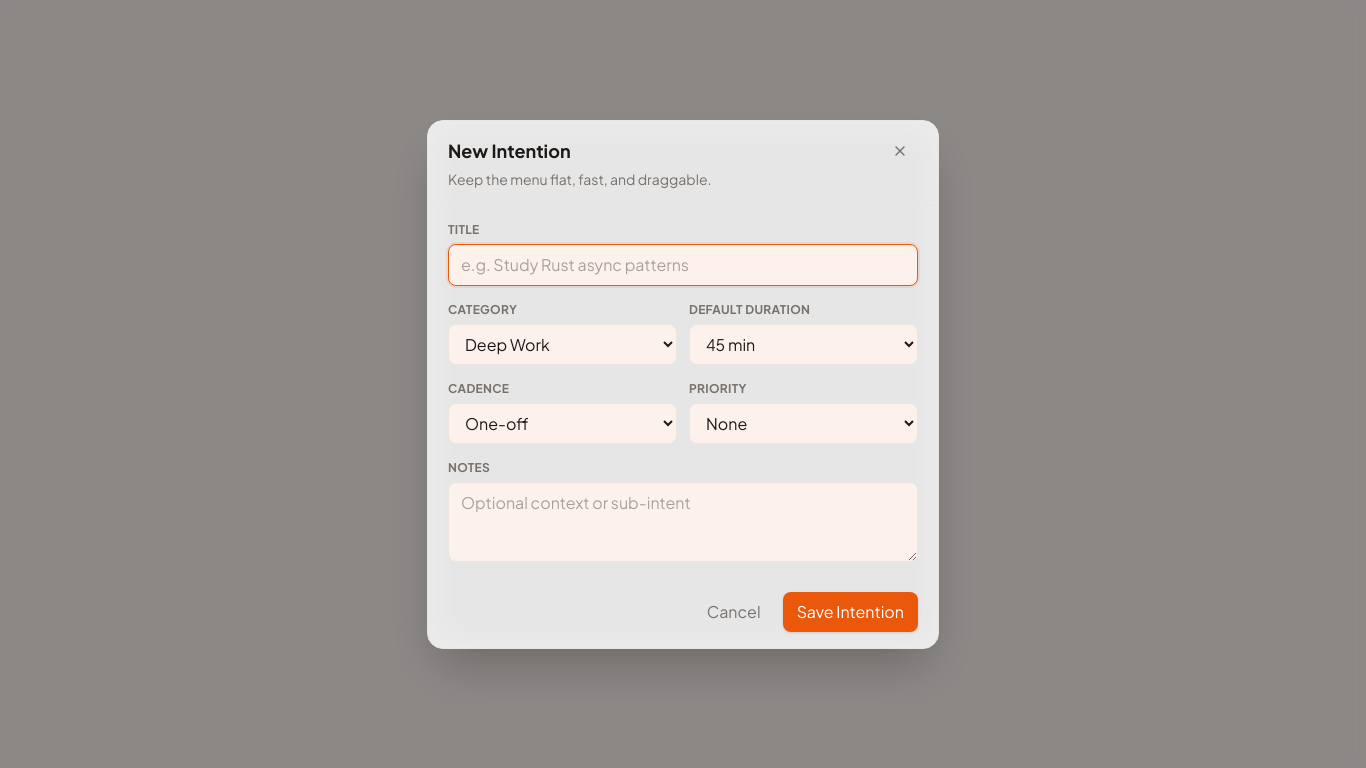
Test: IntentionFormModal › shows habit fields only for recurring cadence
The image size is (1366, 768).
Expected: the field labelled "Sessions per week" is not shown
Expected: the field labelled "Preferred time" is not shown
Select "Habitual / recurring" in the dropdown labelled "Cadence" at (562, 423), box left=448, top=402, right=677, bottom=444
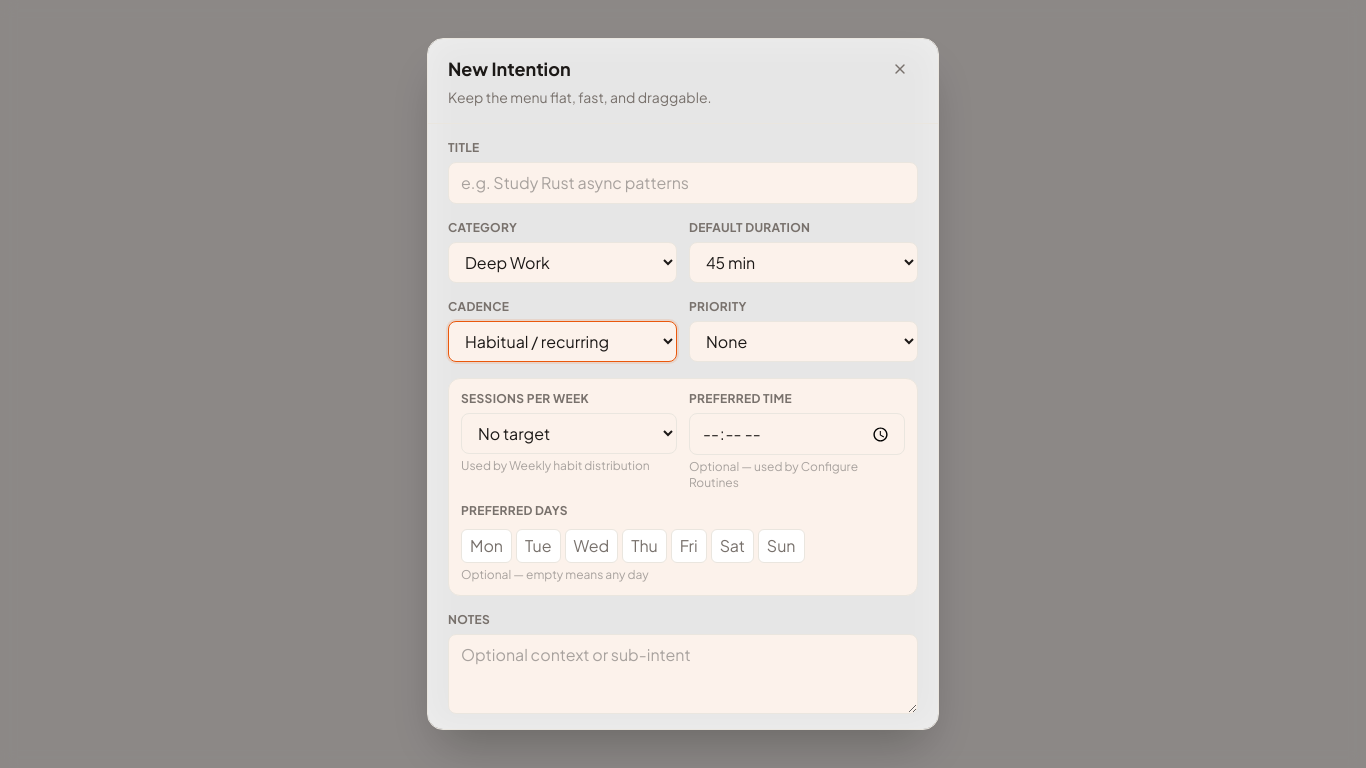
Result: the dropdown labelled "Sessions per week Used by Weekly habit distribution" is shown at left=461, top=413, right=677, bottom=454
Result: the time field labelled "Preferred time Optional — used by Configure Routines" is shown at left=689, top=413, right=905, bottom=455
Result: the button "Mon" is shown at left=461, top=529, right=512, bottom=563
